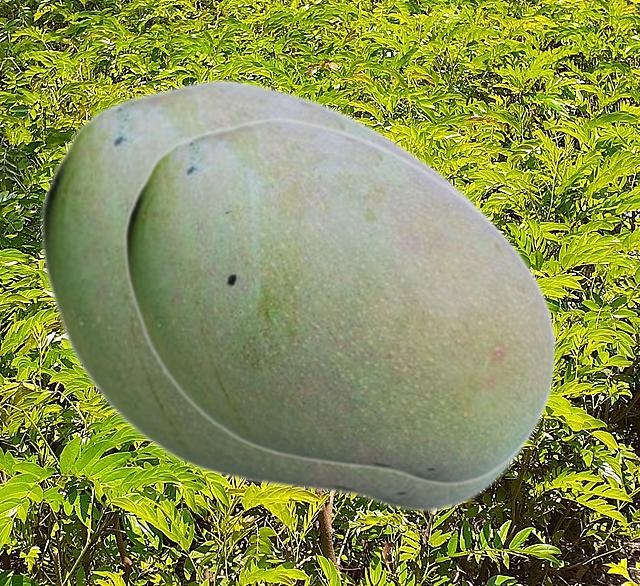green_mango: (39, 77, 543, 512), (123, 116, 556, 485)
